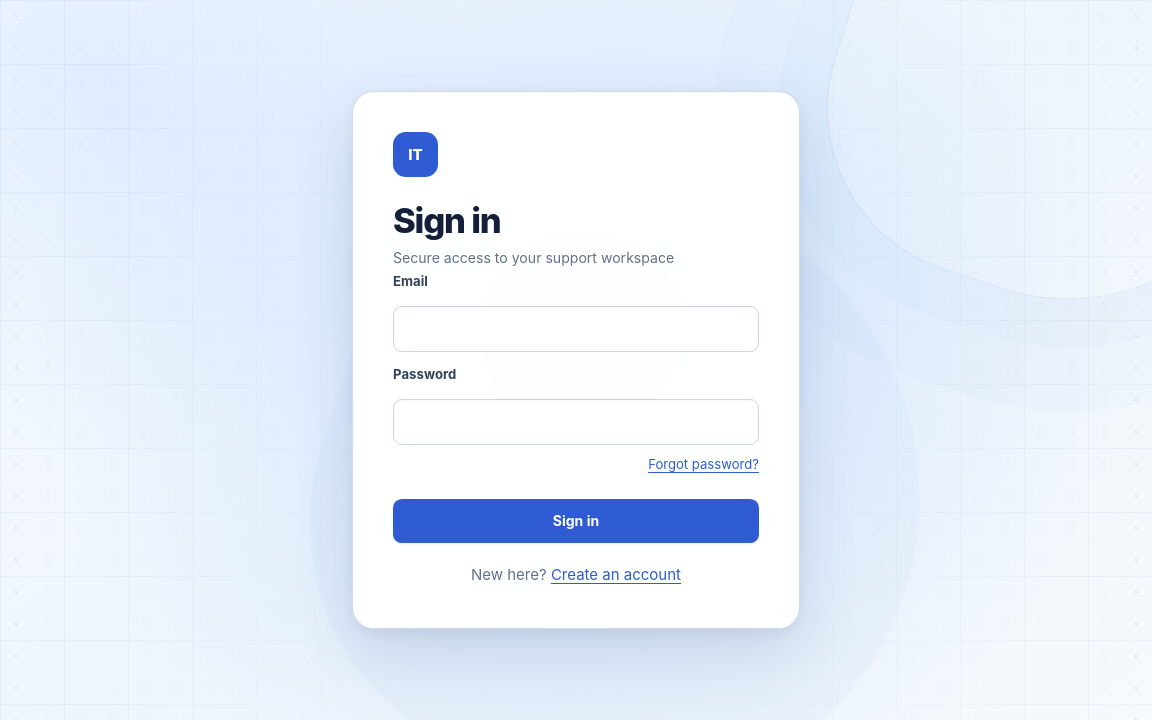
Test: auth pages › validates required login fields
The width and height of the screenshot is (1152, 720).
Click the button "Sign in": (576, 521) [393,499,759,543]
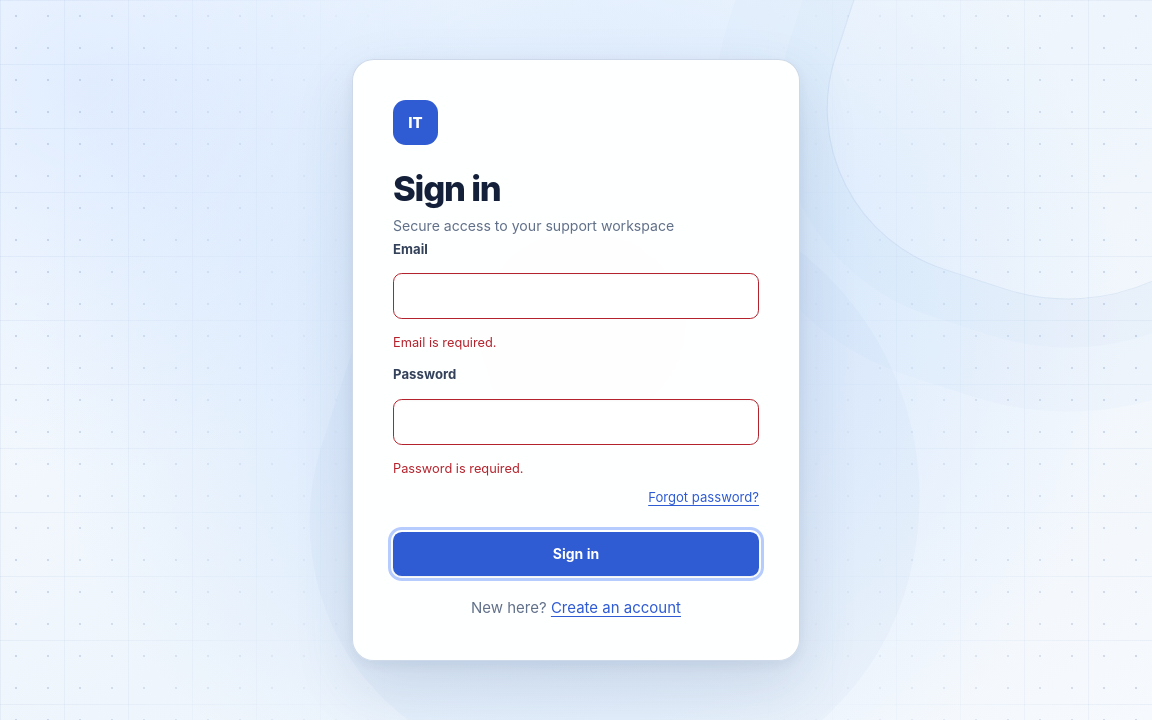
Expected: the text "Email is required." is shown, [393,335,496,350]
Expected: the text "Password is required." is shown, [393,461,523,476]
